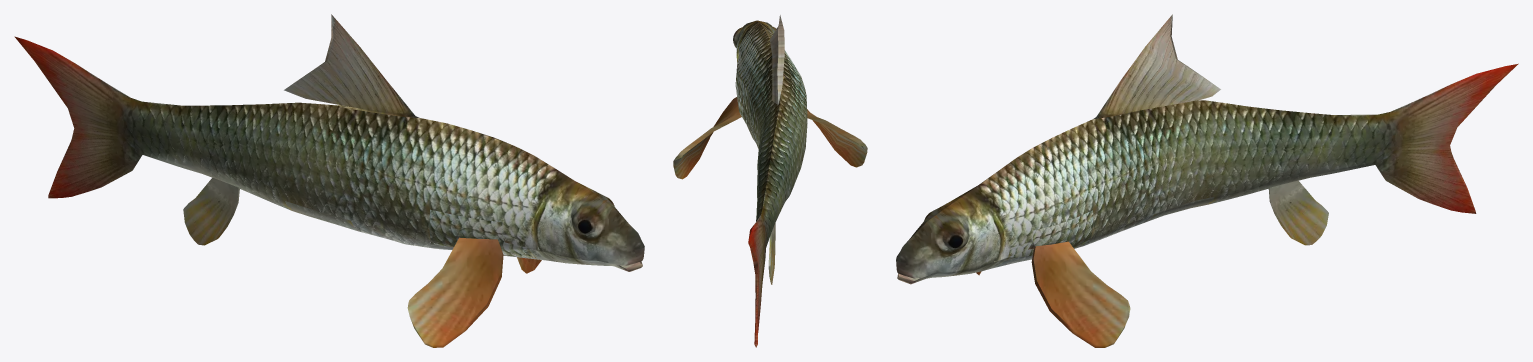
File: redhorse.glb
The picture shows the model from 3 angles, left to right: view 1: azimuth 30°, elevation 25°; view 2: azimuth 150°, elevation 25°; view 3: azimuth 270°, elevation 25°; orthographic projection. The views are drawn at different scales.
Visible parts, largest first — view 1: polySurface1_lambert2_0.001; view 2: polySurface1_lambert2_0.001; view 3: polySurface1_lambert2_0.001.
Part boxes in pixels (x1=…): polySurface1_lambert2_0.001: x1=14, y1=14, x2=644, y2=347; polySurface1_lambert2_0.001: x1=673, y1=15, x2=867, y2=347; polySurface1_lambert2_0.001: x1=896, y1=14, x2=1518, y2=347.
Size of the model in its own units: 1 by 0.8151 by 1.77.
Materials: 1 (1 with a texture image).
